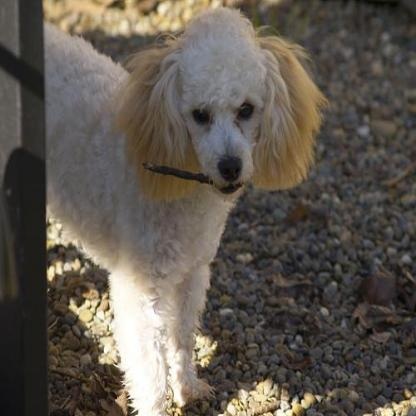toy_poodle: (43, 3, 328, 413)
